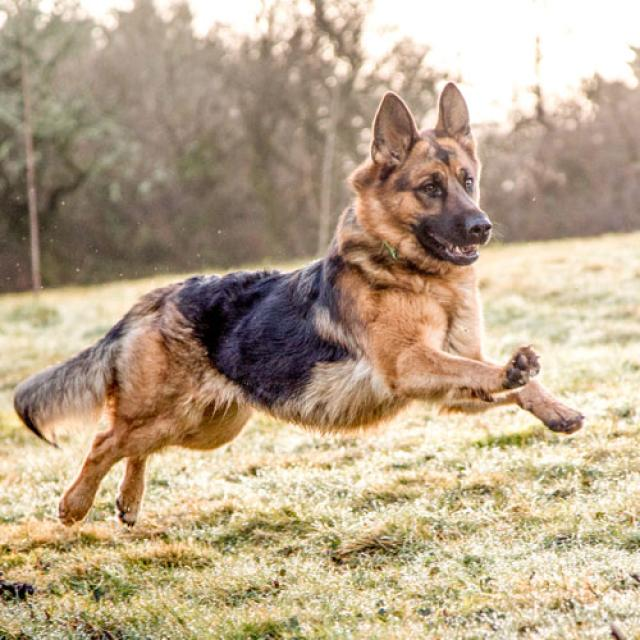GERMAN_SHEPHERD: (8, 75, 591, 540)
